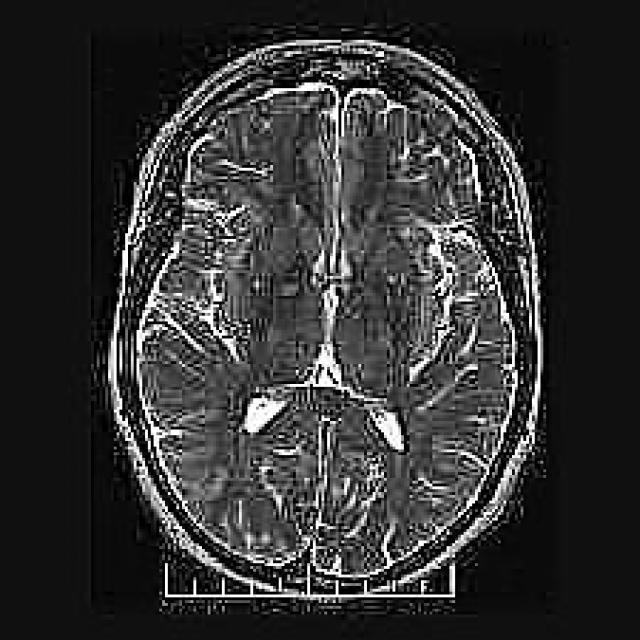notumor: (114, 40, 540, 594)
